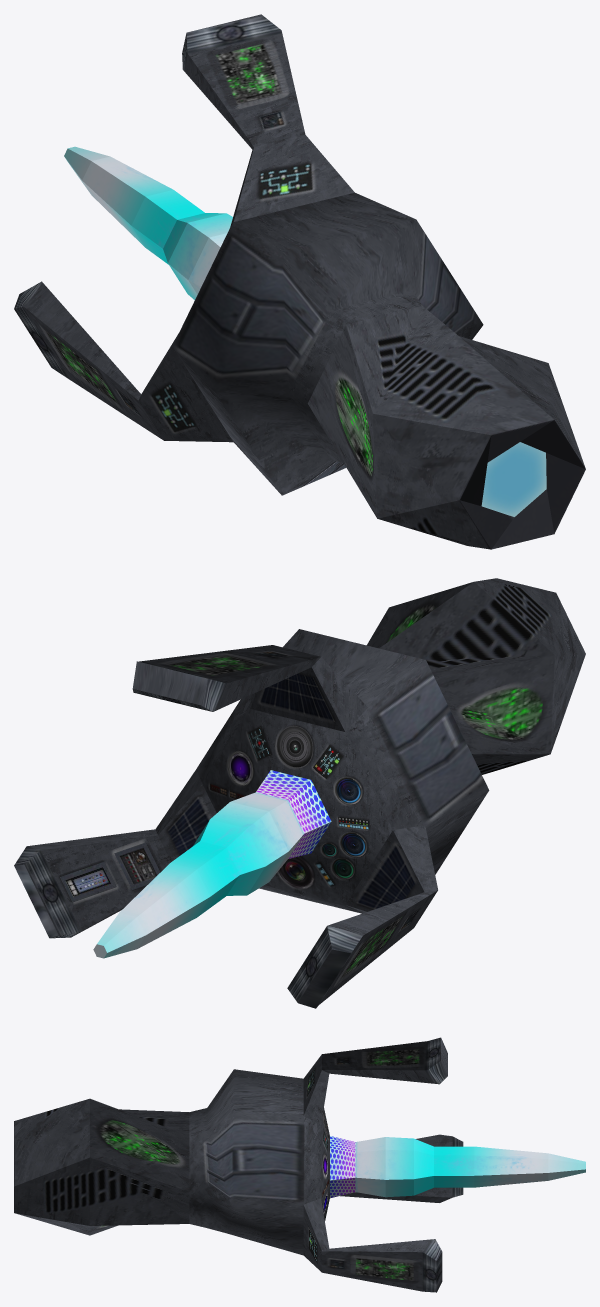
The model's file is lastNo2.fbx.
3 renders of one model, top to bottom at view 1: azimuth 30°, elevation 25°; view 2: azimuth 150°, elevation 25°; view 3: azimuth 270°, elevation 25°, orthographic. The views are drawn at different scales.
Visible parts, largest first — view 1: Cone001; view 2: Cone001; view 3: Cone001.
Boxes of the visible parts, x1,y1,x2,y2 form: Cone001: [14, 14, 585, 549]; Cone001: [14, 578, 585, 1008]; Cone001: [14, 1037, 585, 1292].
Size of the model in its own units: 179 by 150 by 376.
Materials: 1 (1 with a texture image).
